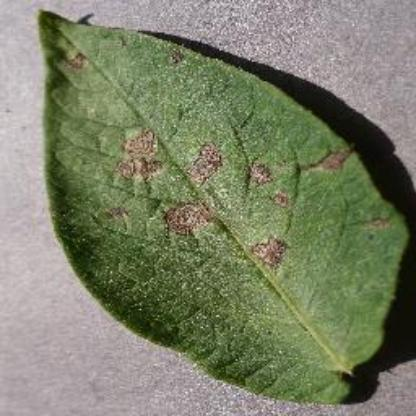Early-Blight: (30, 7, 410, 409)
